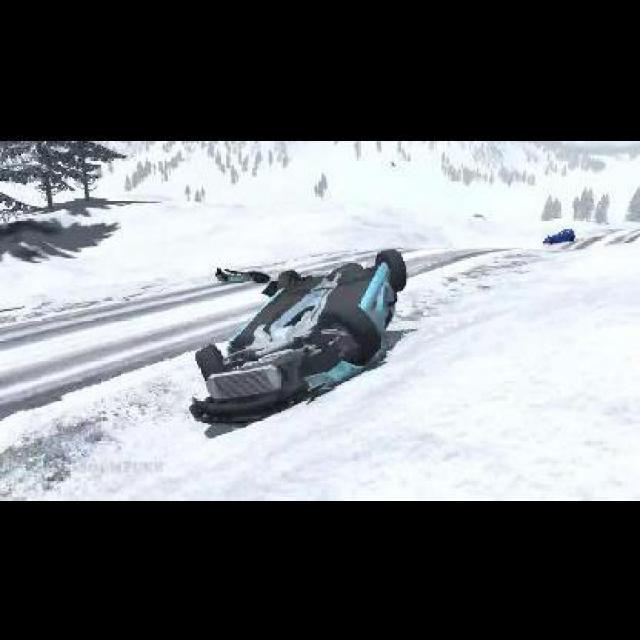accident: (185, 240, 408, 428)
